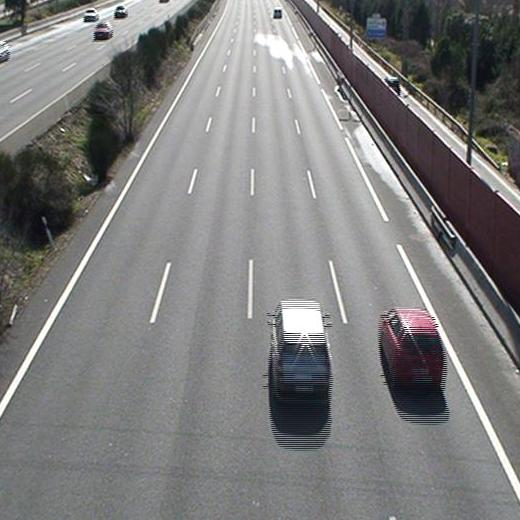car: (271, 303, 332, 400), (380, 307, 444, 391)
